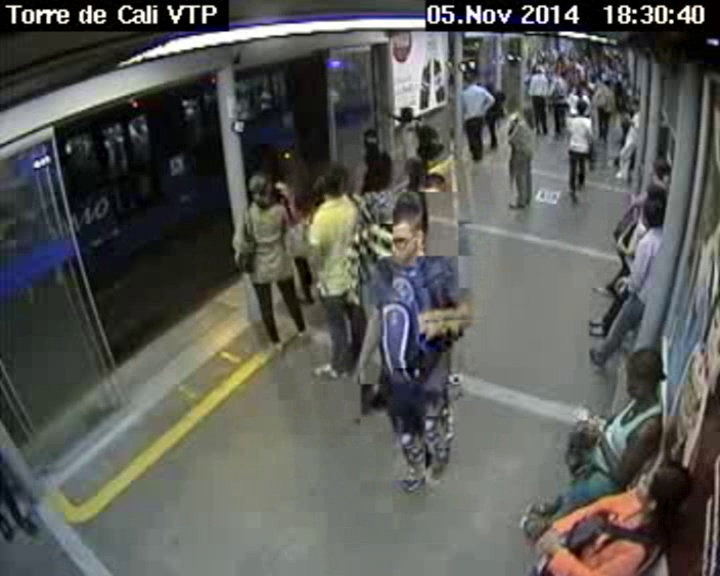person: (617, 340, 669, 409), (634, 456, 690, 517), (384, 205, 427, 265), (246, 172, 278, 209), (315, 162, 347, 198), (641, 198, 665, 226), (358, 128, 383, 153), (397, 103, 417, 125), (651, 157, 671, 179), (647, 179, 666, 201), (518, 105, 535, 123), (574, 101, 588, 116), (630, 99, 643, 114), (463, 72, 476, 86), (574, 84, 585, 99), (533, 66, 547, 76), (482, 71, 491, 85), (603, 76, 612, 89), (555, 70, 565, 80), (614, 81, 622, 90)
